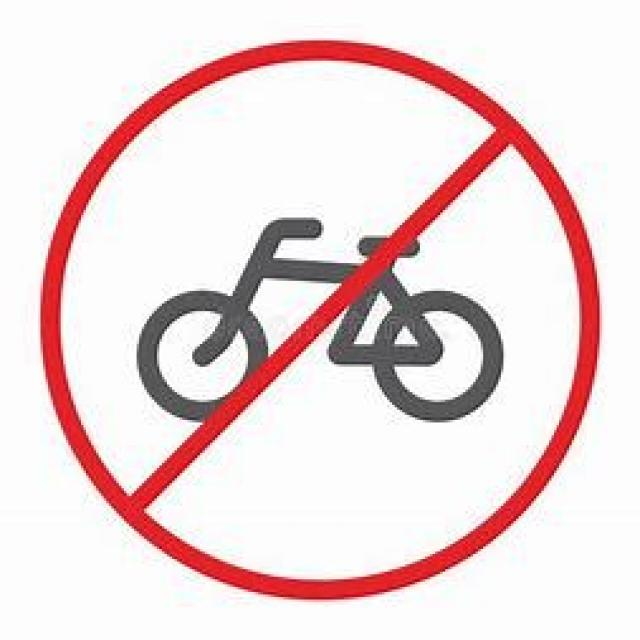CYCLE_PROHIBITED: (36, 40, 600, 597)
